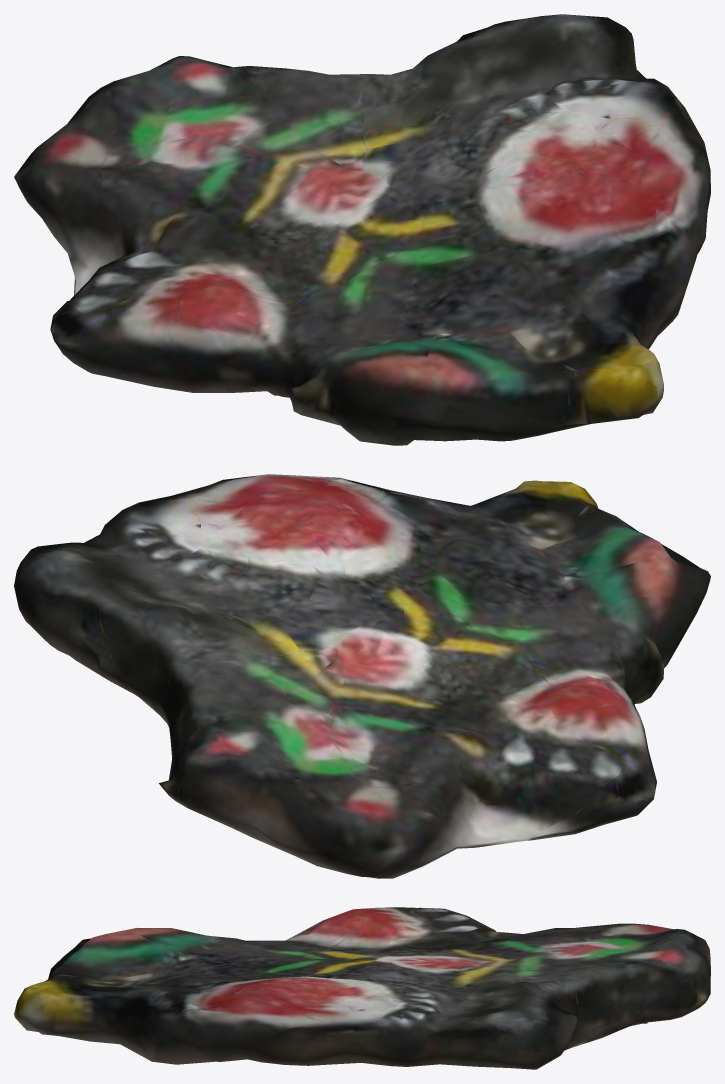
Rendered from hall.glb.
The picture shows the model from 3 angles, top to bottom: view 1: azimuth 30°, elevation 25°; view 2: azimuth 150°, elevation 25°; view 3: azimuth 270°, elevation 25°; orthographic projection. The views are drawn at different scales.
Bounding box in the file's own units: 0.5352 × 0.1534 × 0.6557.
Materials: 1 (1 with a texture image).
